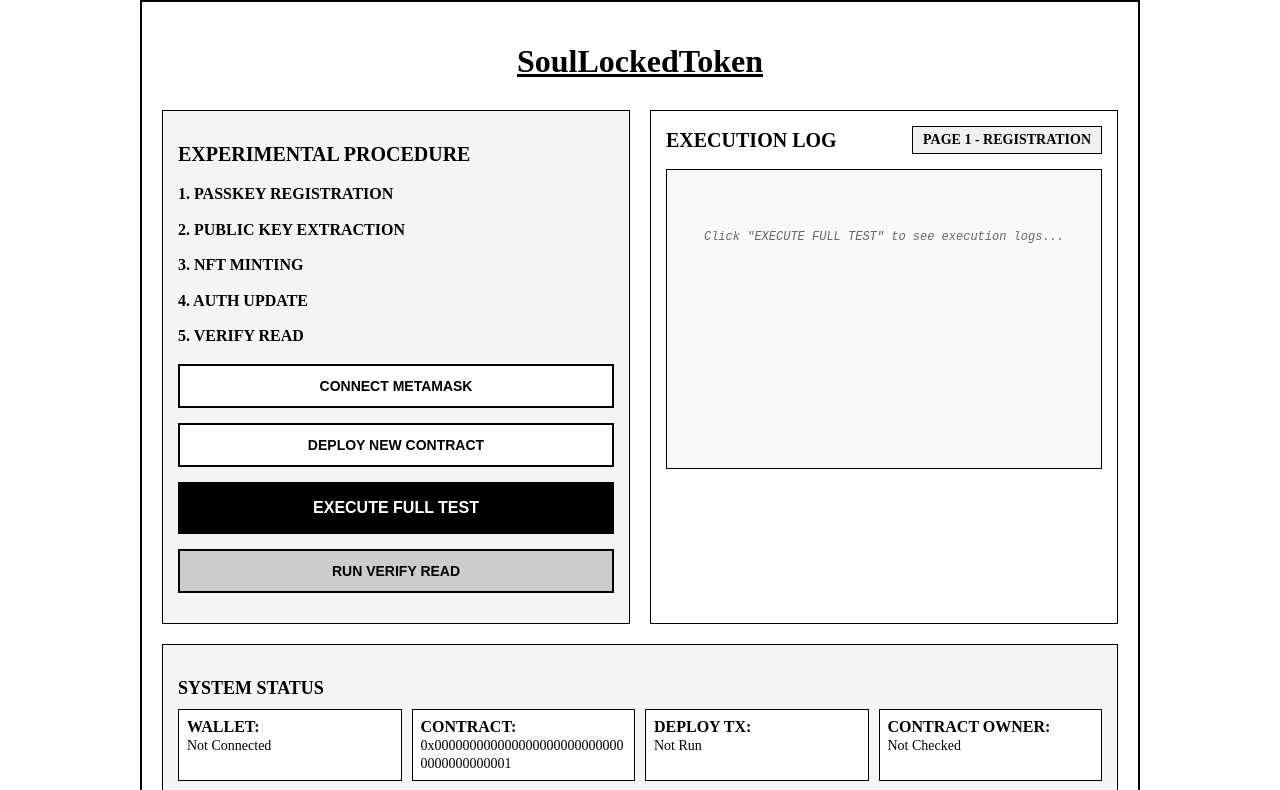
Test: PasskeyFullTest › runs passKeyChecker as a read-only verify action
Click the button "EXECUTE FULL TEST".
click(396, 508)  # box top-left (178, 482), bottom-right (614, 534)
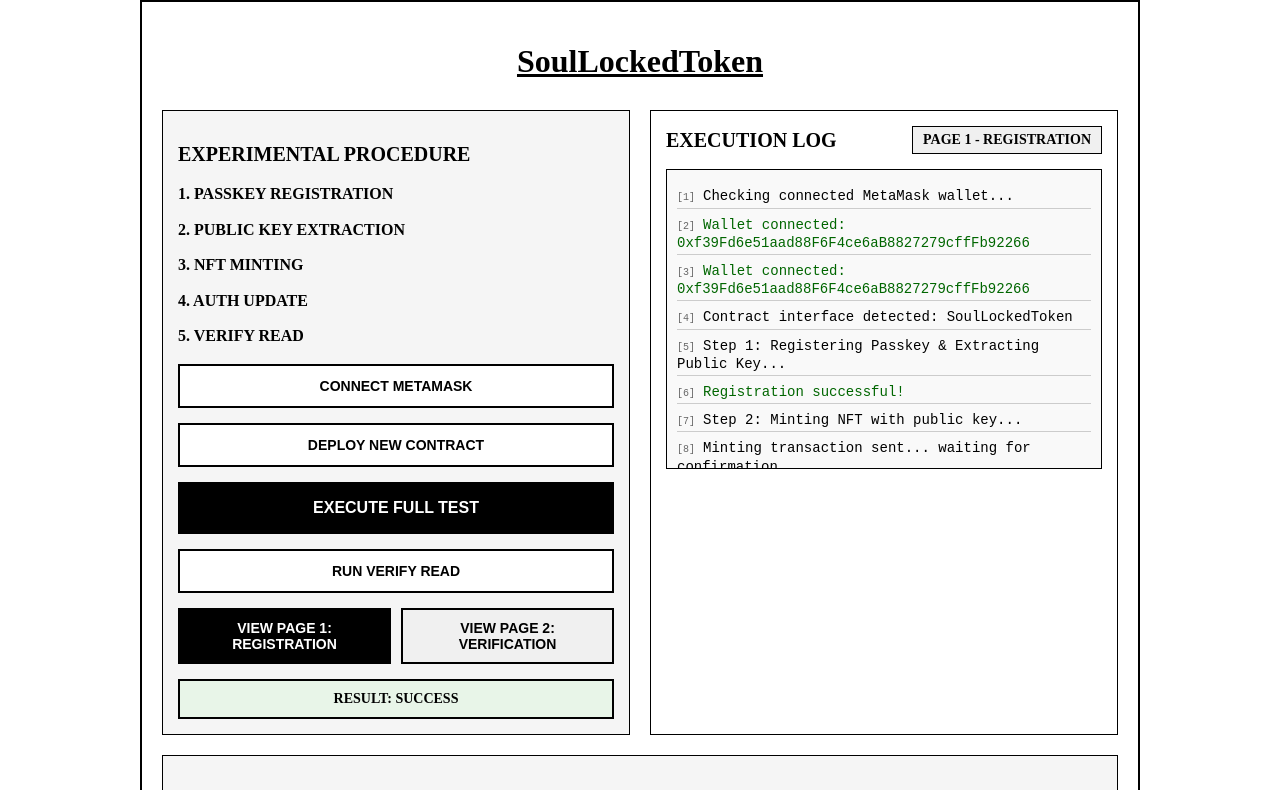
Click the button "RUN VERIFY READ".
click(396, 571)  # box top-left (178, 549), bottom-right (614, 593)
(page scrolled)
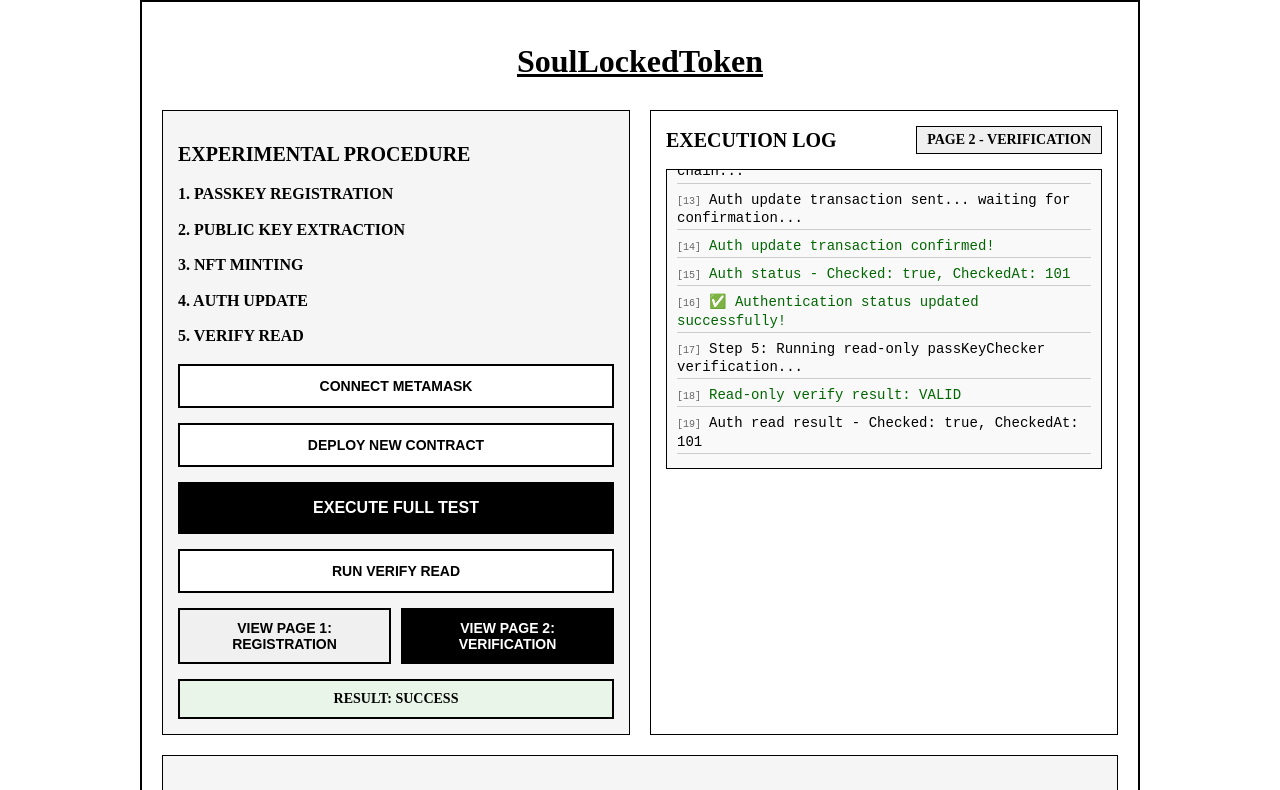
Now the text "[18]Read-only verify result: VALID" is shown, box top-left (677, 384), bottom-right (1091, 407)
